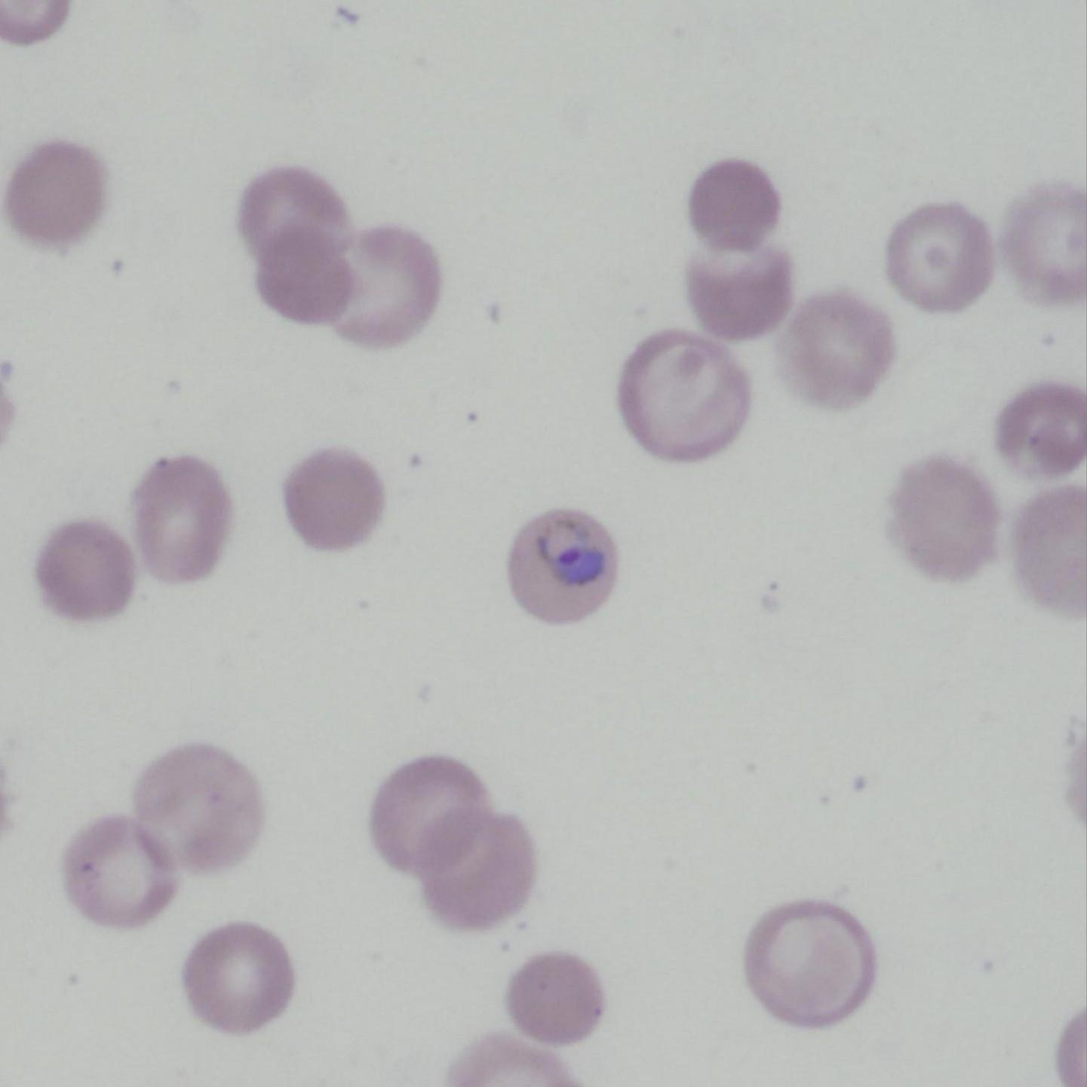Infected: (508, 508, 619, 624)
Uninfected: (749, 898, 877, 1028), (130, 749, 261, 875), (617, 334, 745, 461), (311, 229, 441, 345), (769, 287, 886, 412), (890, 455, 1006, 577), (366, 753, 486, 869), (419, 815, 534, 931), (128, 455, 229, 586), (179, 923, 294, 1034), (66, 817, 178, 924), (884, 198, 984, 314), (8, 139, 112, 248), (690, 234, 789, 337), (999, 191, 1087, 305), (40, 518, 137, 621), (240, 163, 344, 259), (255, 215, 347, 322), (287, 453, 383, 553), (507, 953, 610, 1046), (1011, 491, 1087, 616), (998, 381, 1087, 482), (688, 159, 781, 250)
